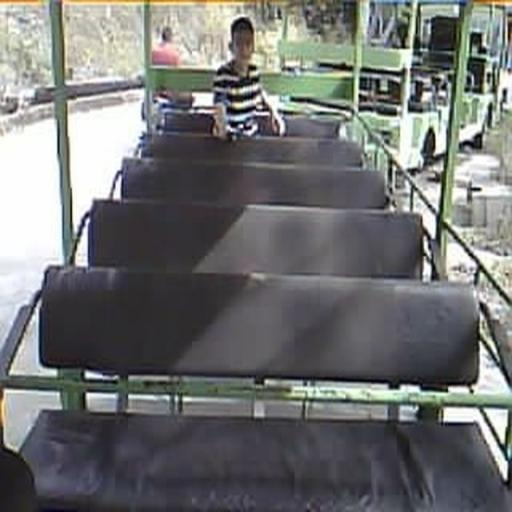persona: (210, 16, 288, 140)
